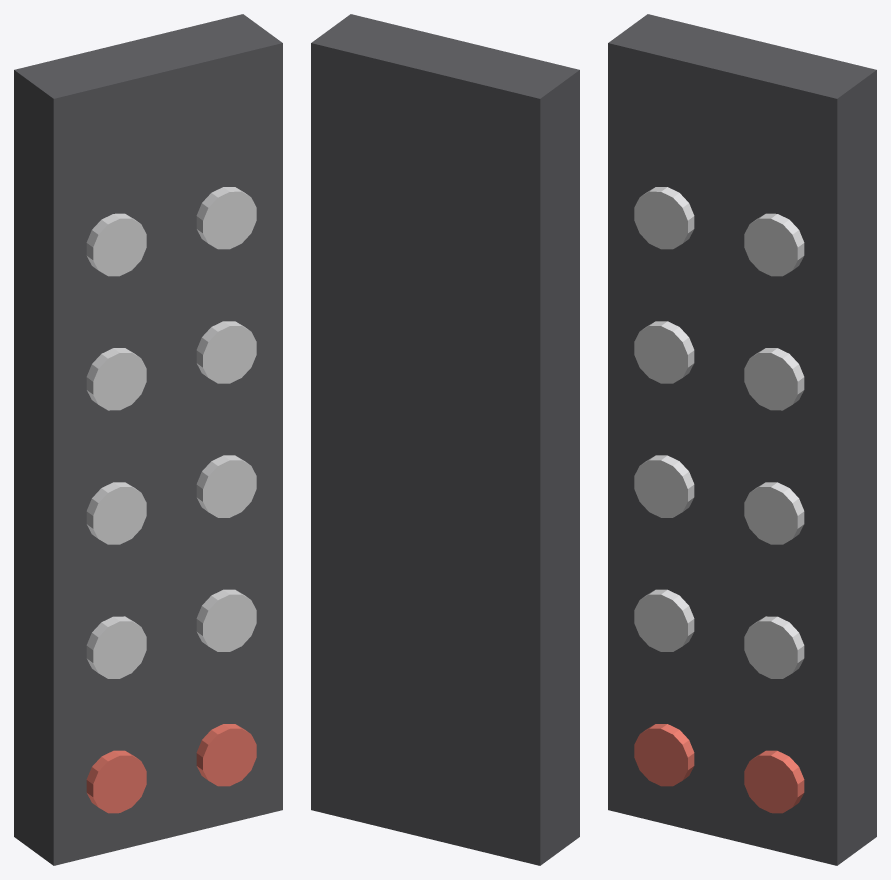
The model's file is item_39_remote_control.glb.
The picture shows the model from 3 angles, left to right: view 1: azimuth 30°, elevation 25°; view 2: azimuth 150°, elevation 25°; view 3: azimuth 330°, elevation 25°; orthographic projection.
Parts seen in each view (by area): view 1: I39_Body, I39_Btn00, I39_Btn40, I39_Btn21, I39_Btn11, I39_Btn10, I39_Btn01, I39_Btn20, I39_Btn41, I39_Btn31, I39_Btn30; view 2: I39_Body; view 3: I39_Body, I39_Btn01, I39_Btn41, I39_Btn20, I39_Btn10, I39_Btn11, I39_Btn00, I39_Btn21, I39_Btn40, I39_Btn30, I39_Btn31.
Boxes of the visible parts, bbox=[...] form: I39_Body: bbox=[14, 14, 282, 865]; I39_Btn00: bbox=[86, 750, 146, 813]; I39_Btn40: bbox=[86, 213, 146, 276]; I39_Btn21: bbox=[196, 455, 256, 517]; I39_Btn11: bbox=[196, 589, 256, 651]; I39_Btn10: bbox=[86, 616, 146, 678]; I39_Btn01: bbox=[196, 724, 256, 786]; I39_Btn20: bbox=[86, 482, 146, 544]; I39_Btn41: bbox=[196, 187, 256, 249]; I39_Btn31: bbox=[196, 321, 256, 383]; I39_Btn30: bbox=[86, 348, 146, 410]; I39_Body: bbox=[311, 14, 579, 865]; I39_Body: bbox=[608, 14, 876, 865]; I39_Btn01: bbox=[744, 750, 804, 813]; I39_Btn41: bbox=[744, 213, 804, 276]; I39_Btn20: bbox=[634, 455, 694, 517]; I39_Btn10: bbox=[634, 589, 694, 651]; I39_Btn11: bbox=[744, 616, 804, 678]; I39_Btn00: bbox=[634, 724, 694, 786]; I39_Btn21: bbox=[744, 482, 804, 544]; I39_Btn40: bbox=[634, 187, 694, 249]; I39_Btn30: bbox=[634, 321, 694, 383]; I39_Btn31: bbox=[744, 348, 804, 410].
Size of the model in its own units: 0.05 by 0.16 by 0.0175.
